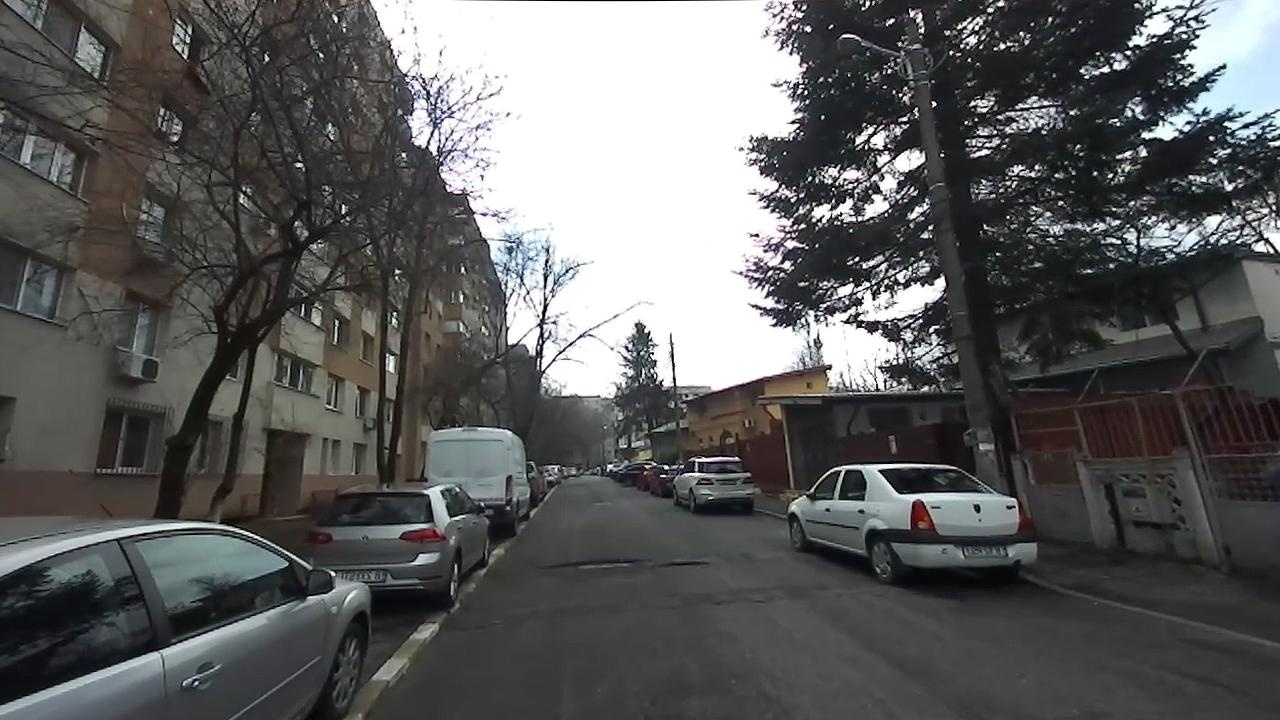pothole: (539, 556, 643, 576), (657, 559, 709, 571)
